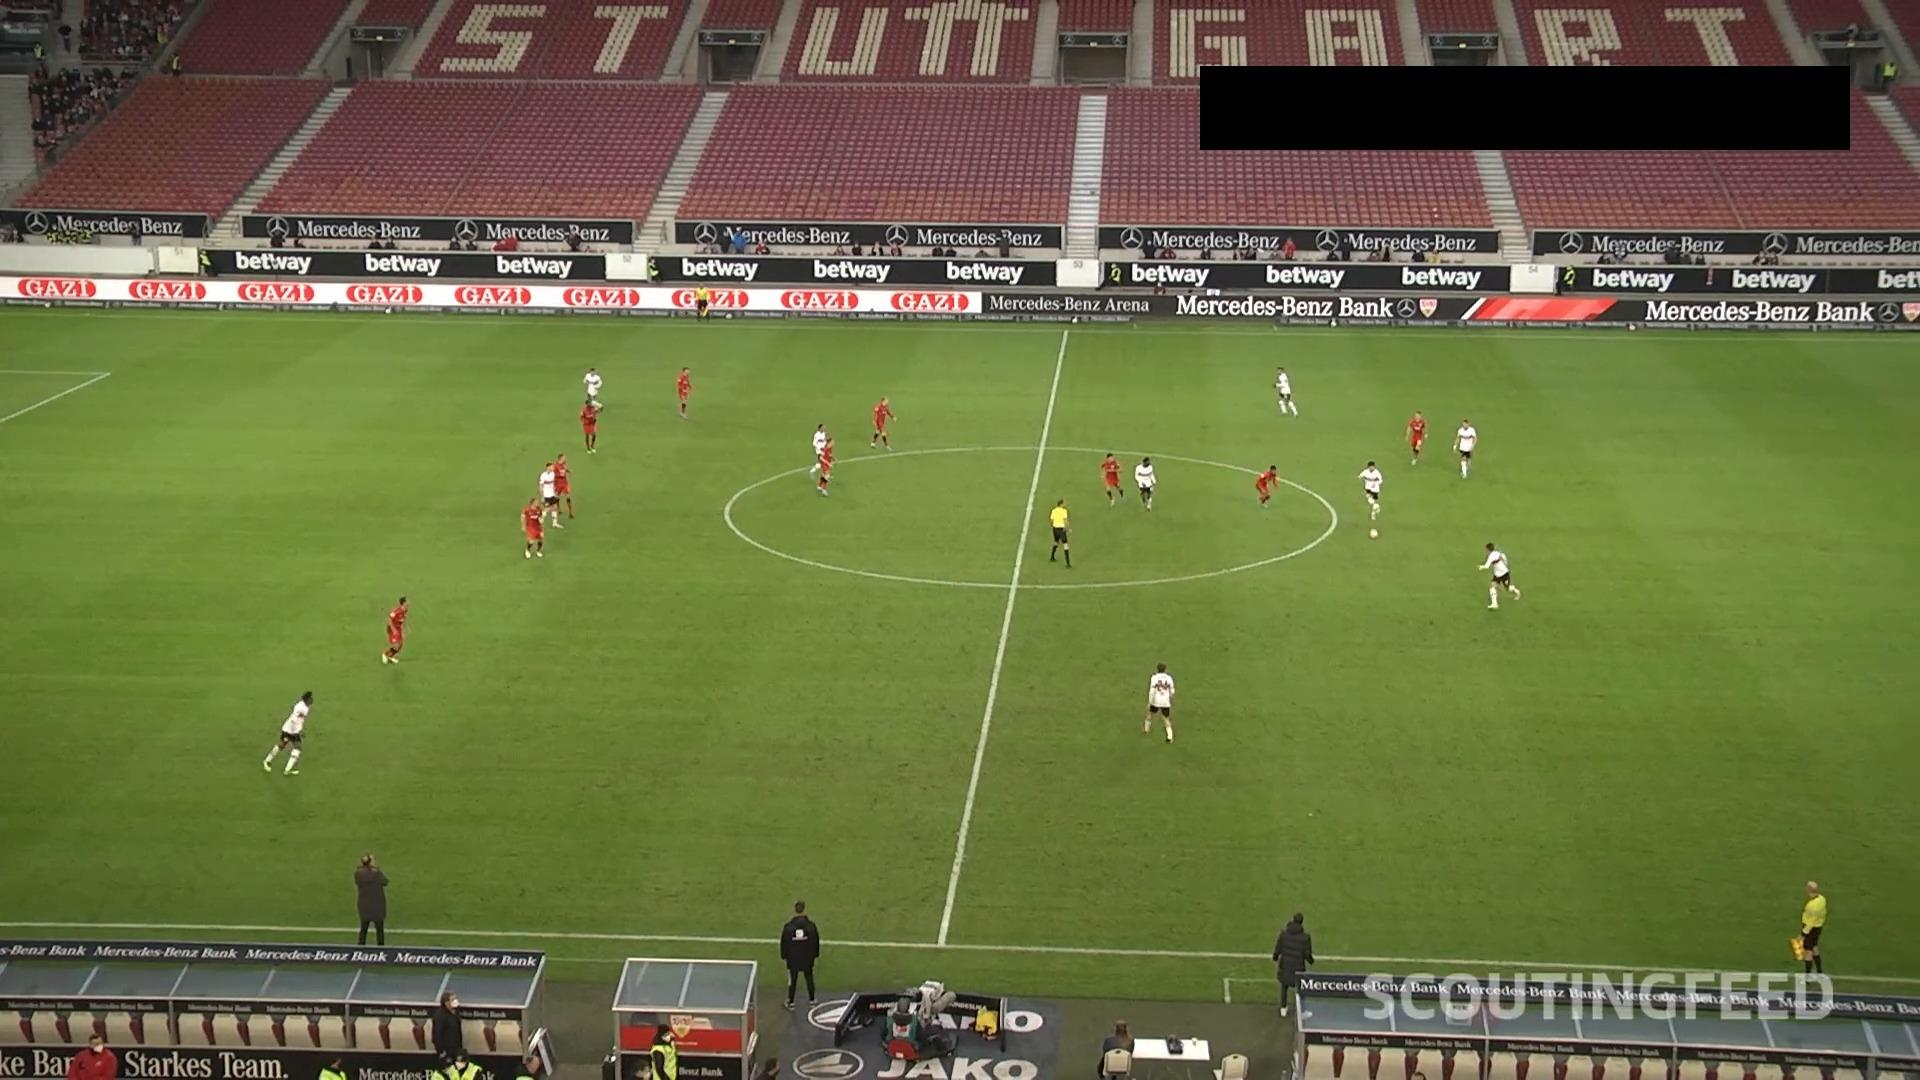ball: (1367, 526, 1381, 541)
